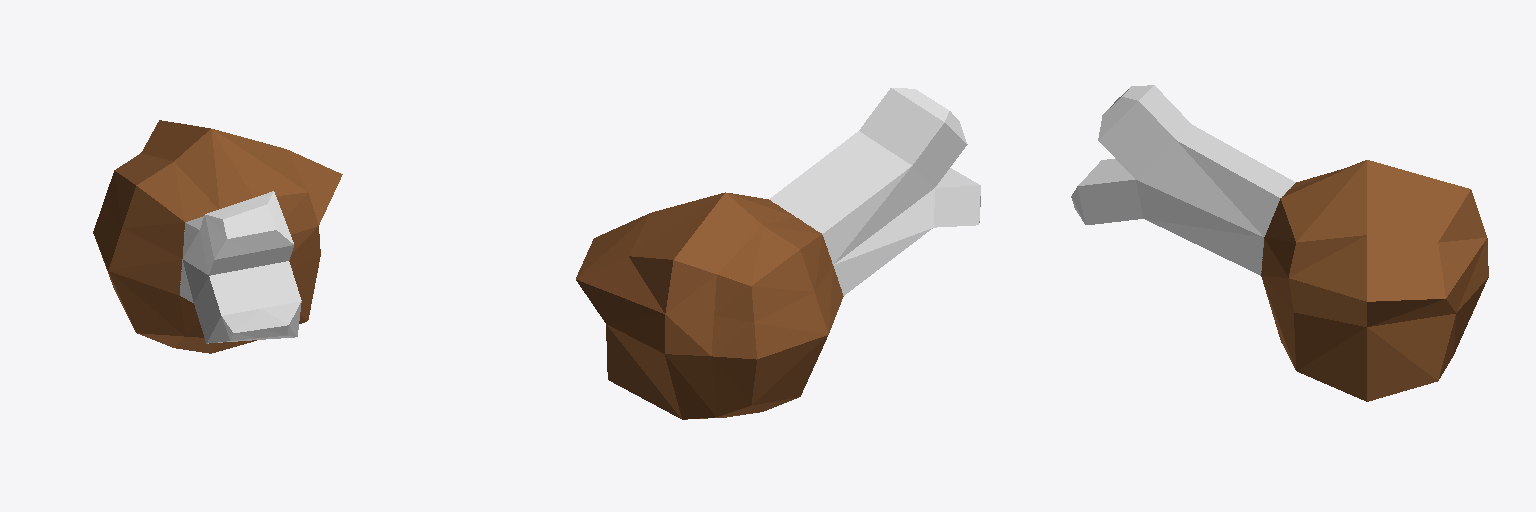
3 renders of one model, left to right at view 1: azimuth 30°, elevation 25°; view 2: azimuth 150°, elevation 25°; view 3: azimuth 270°, elevation 25°, orthographic.
Visible parts, largest first — view 1: food.001_Cube.184; view 2: food.001_Cube.184; view 3: food.001_Cube.184.
Part boxes in pixels (bbox=[...]): food.001_Cube.184: bbox=[93, 120, 342, 353]; food.001_Cube.184: bbox=[576, 88, 980, 419]; food.001_Cube.184: bbox=[1071, 85, 1488, 401].
Bounding box in the file's own units: 0.4943 × 0.4688 × 0.6854.
Materials: 1 (1 with a texture image).